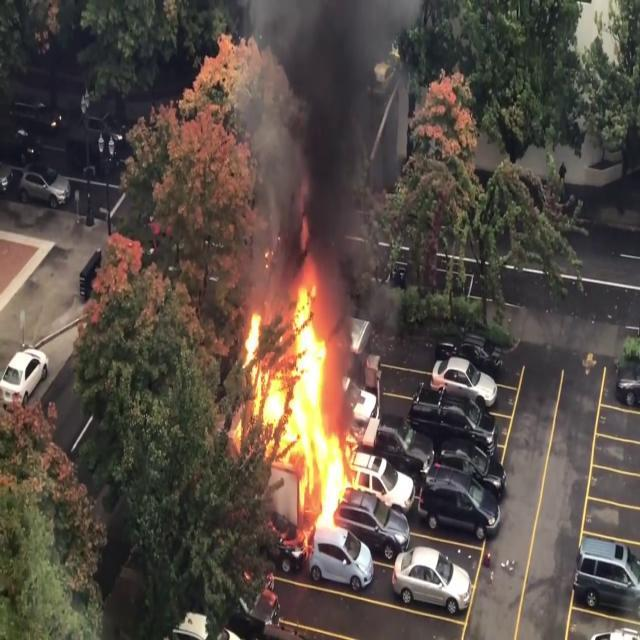Fire: (234, 262, 355, 540)
Smoke: (245, 0, 398, 293)
